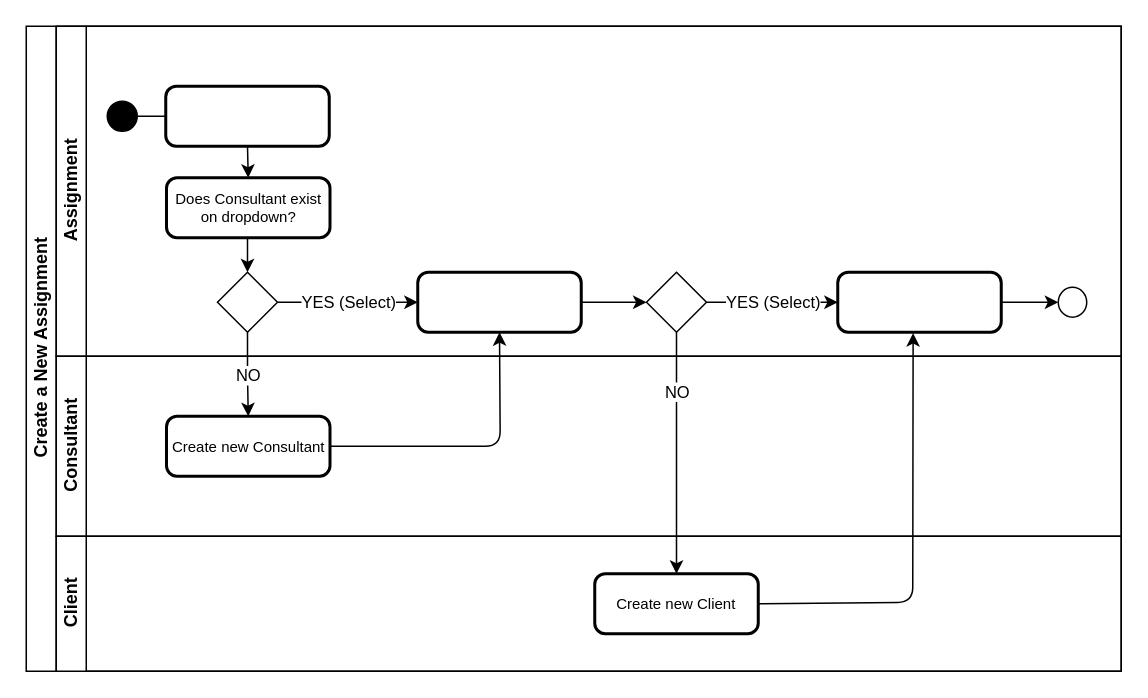
The diagram is 1148 pixels wide and 698 high, and some of its shapes have lost their labels. Here are the shapes that lost their labels. From the top down, the centre of each, then its label:
At point (247, 115): "Click button to Create new assignment".
At point (499, 301): "Does Client exist on dropdown?".
At point (919, 301): "Enter remaining details to create assignment".
